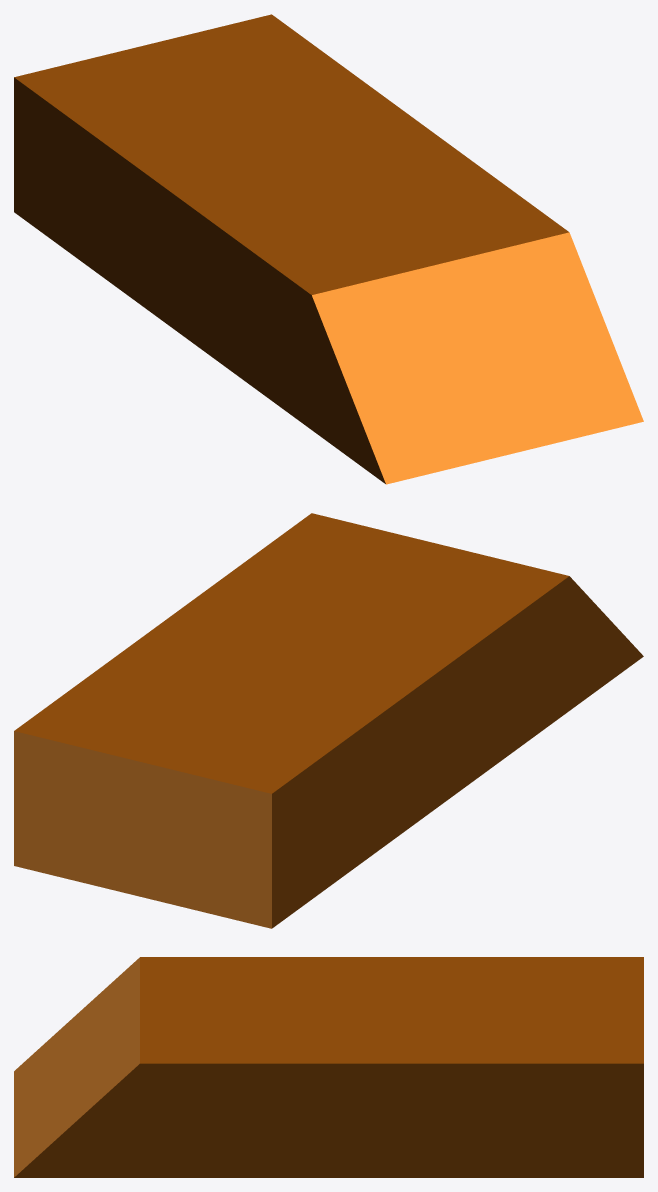
Rendered from 1mdrop1.dae.
The picture shows the model from 3 angles, top to bottom: view 1: azimuth 30°, elevation 25°; view 2: azimuth 150°, elevation 25°; view 3: azimuth 270°, elevation 25°; orthographic projection. The views are drawn at different scales.
Parts seen in each view (by area): view 1: SketchUp (×3); view 2: SketchUp (×3); view 3: SketchUp (×3).
Boxes of the visible parts, box(x1,y1,x2,y2) form: SketchUp (×3): box(14, 14, 643, 484); SketchUp (×3): box(14, 513, 643, 928); SketchUp (×3): box(14, 957, 643, 1177).
Size of the model in its own units: 78.74 by 197 by 39.37.
